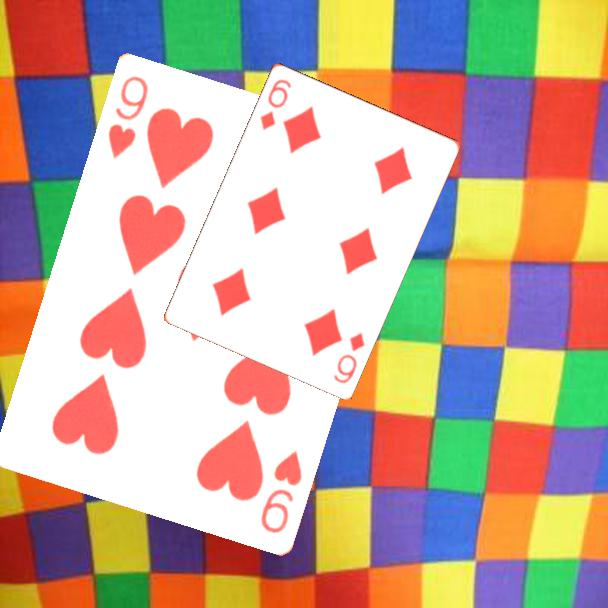d06: (256, 75, 294, 132), (330, 328, 367, 386)
h09: (257, 446, 305, 536), (104, 71, 151, 161)
